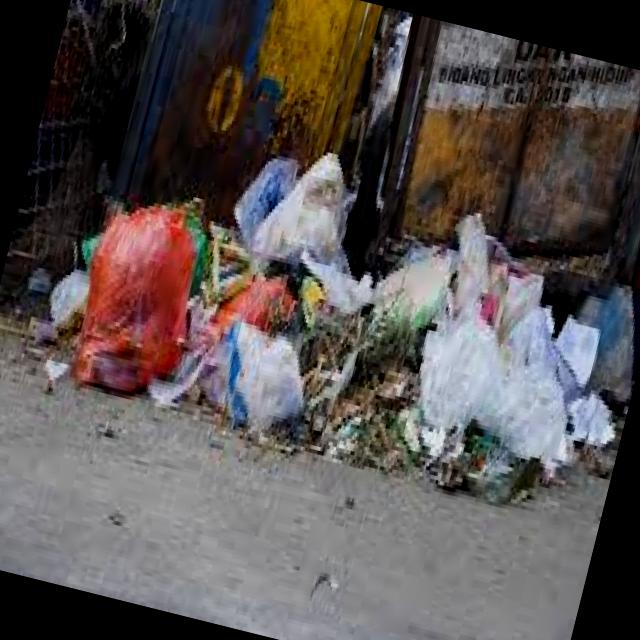garbage: (20, 120, 640, 526)
